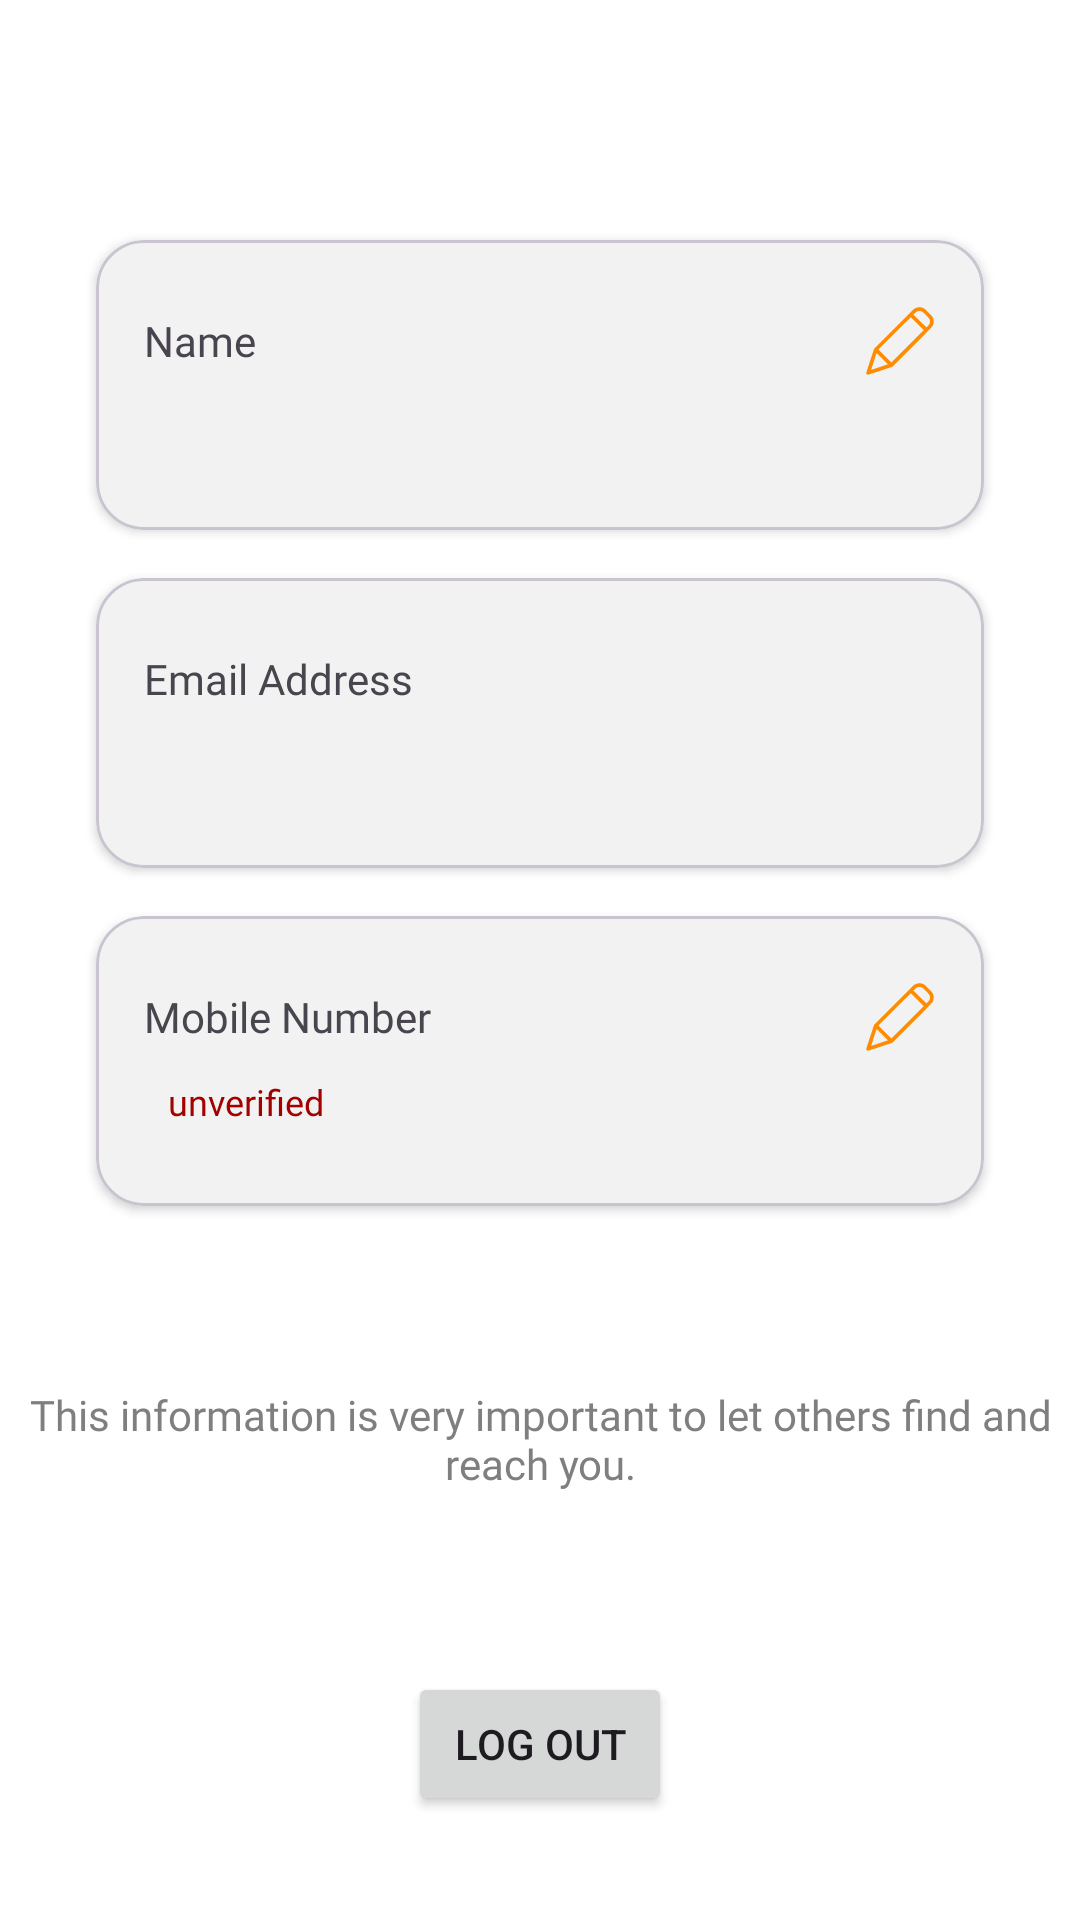

Named icons in this screenshot (1080 x 1920) and their bounding boxes, (x1, y1, x2, y2):
pen: (866, 307, 934, 375), (866, 983, 934, 1051)
